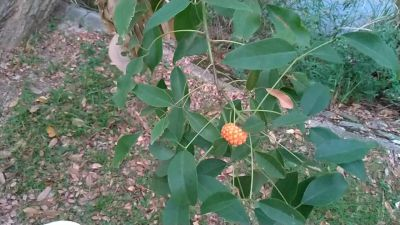eggs: (222, 119, 250, 149)
